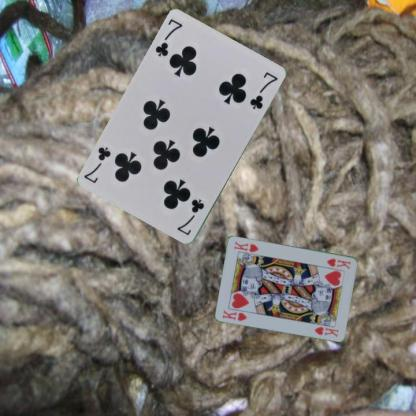7c: (152, 16, 184, 59), (174, 196, 206, 237)
Kh: (220, 307, 249, 322), (324, 255, 352, 270)
